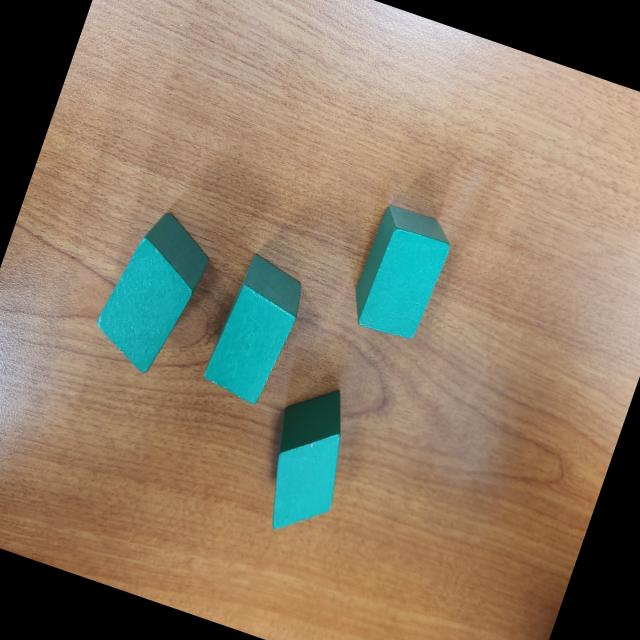green: (84, 201, 220, 382), (244, 372, 368, 543), (199, 251, 311, 408), (343, 199, 458, 345)
